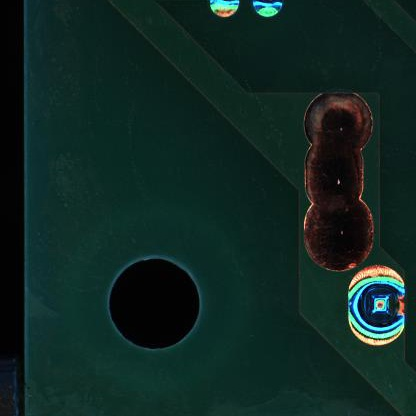spot: (346, 264, 405, 346)
